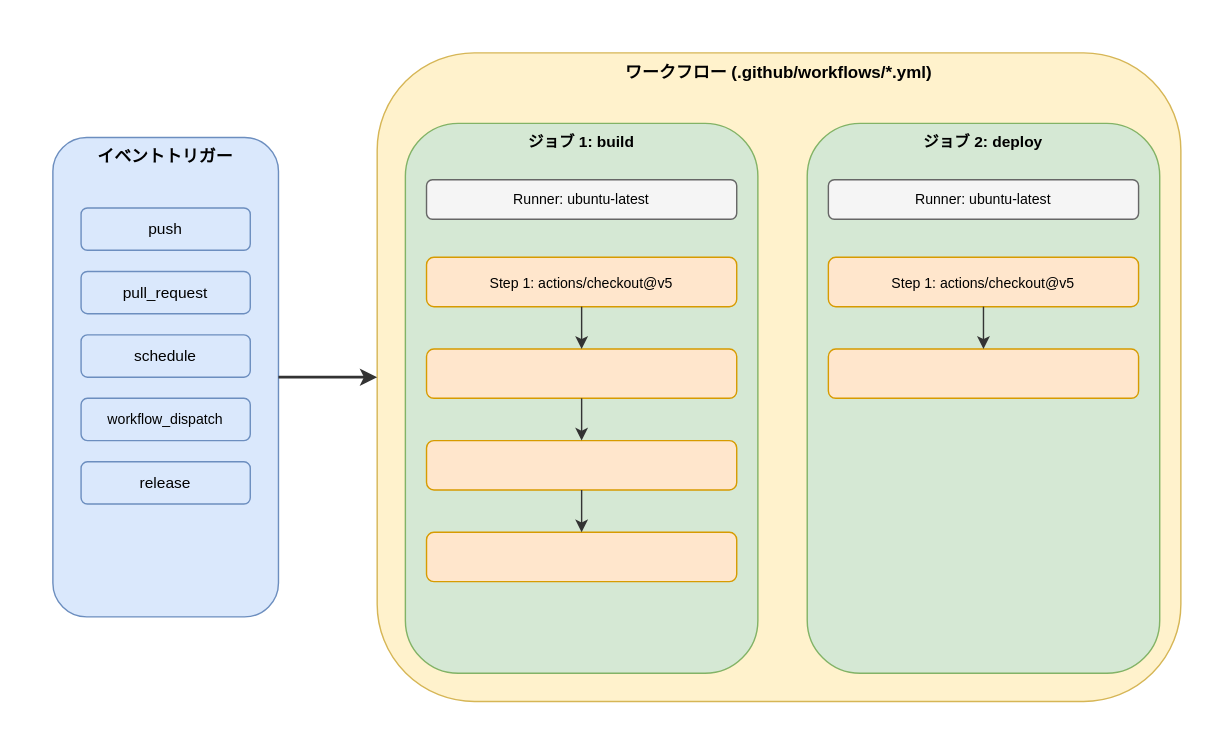
The diagram is 1232 pixels wide and 753 high, and some of its shapes have lost their labels. Here are the shapes that lost their labels. From the top down, the centre of each, then its label:
(581,373): Step 2: actions/setup-node
(983,373): Step 2: run: ./deploy.sh
(581,464): Step 3: run: npm test
(581,556): Step 4: run: npm run build
